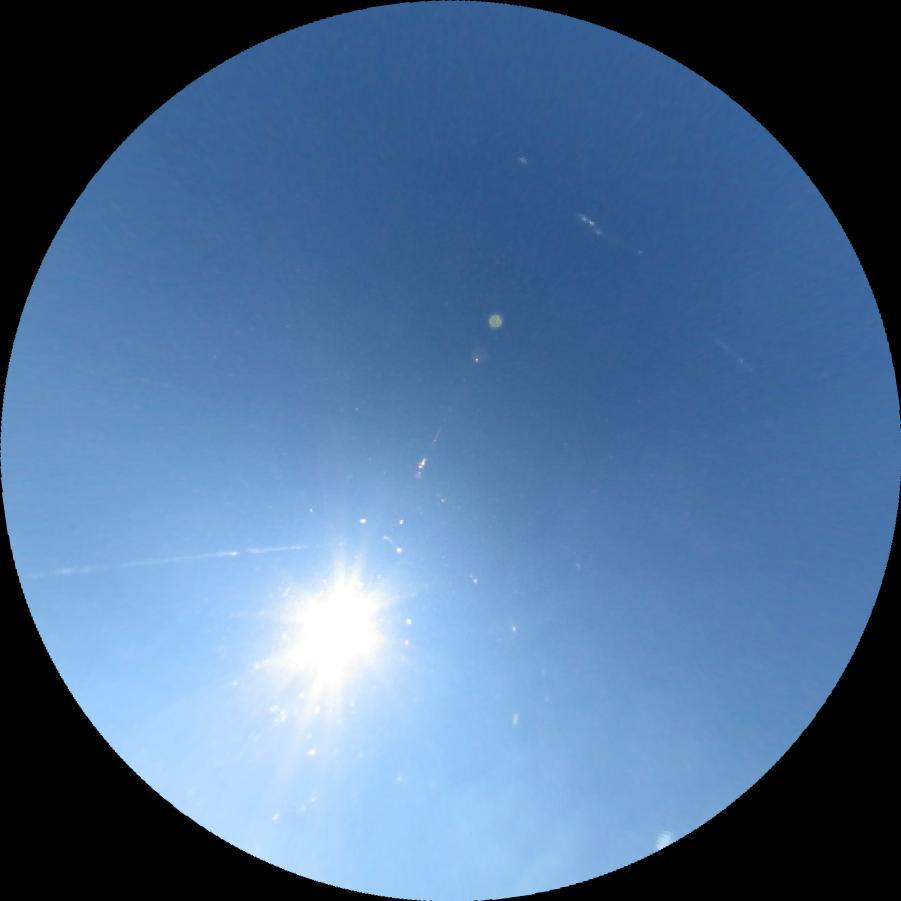parasite: (18, 536, 339, 582), (709, 330, 758, 376), (573, 212, 613, 241)
sun: (251, 555, 407, 714)
